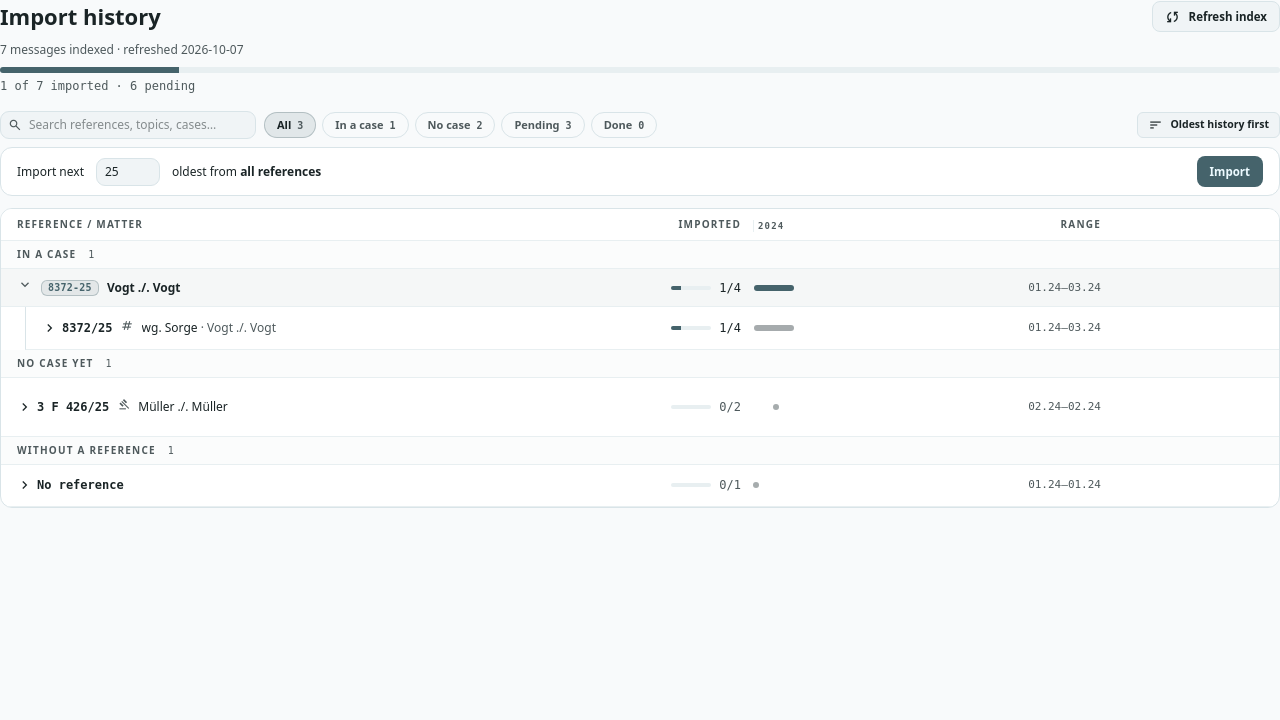
Test: import: select-all picks only the not-yet-imported rows and goes indeterminate
Click the button named "Expand 8372/25": point(77, 328) [42,319,113,337]
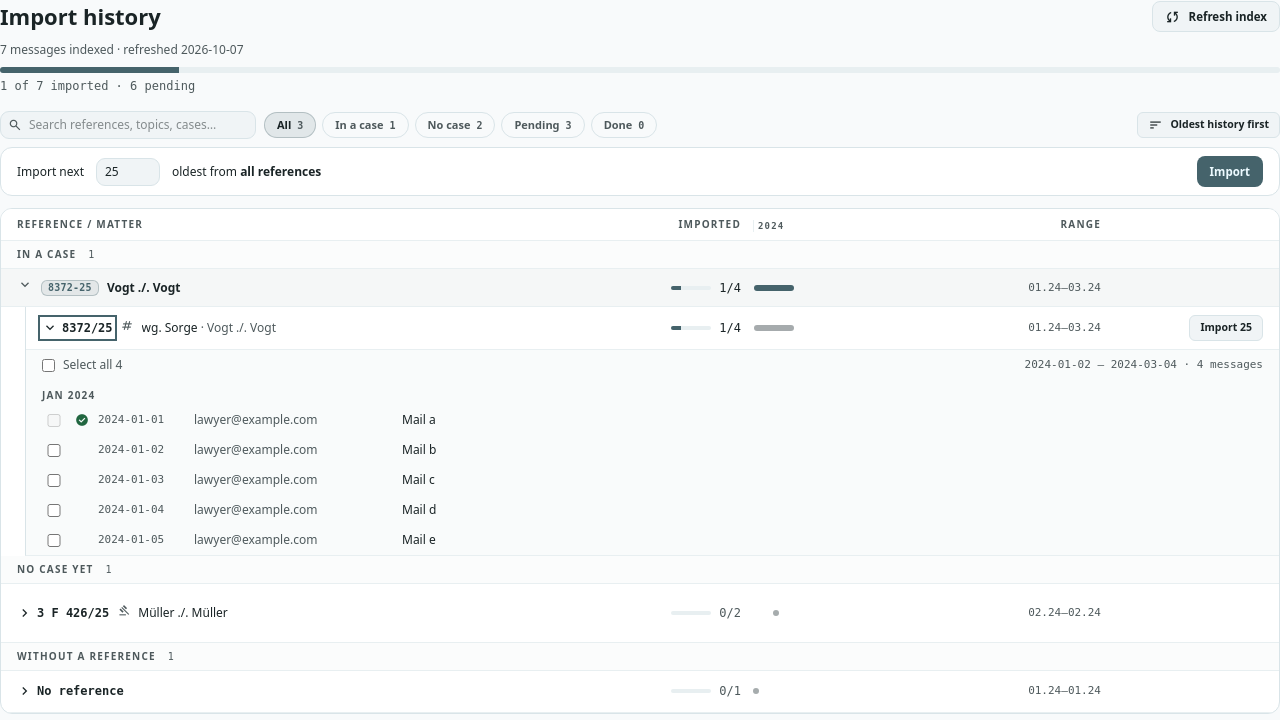
Click the checkbox labelled "Select all 4": point(48, 365) [42,358,55,372]
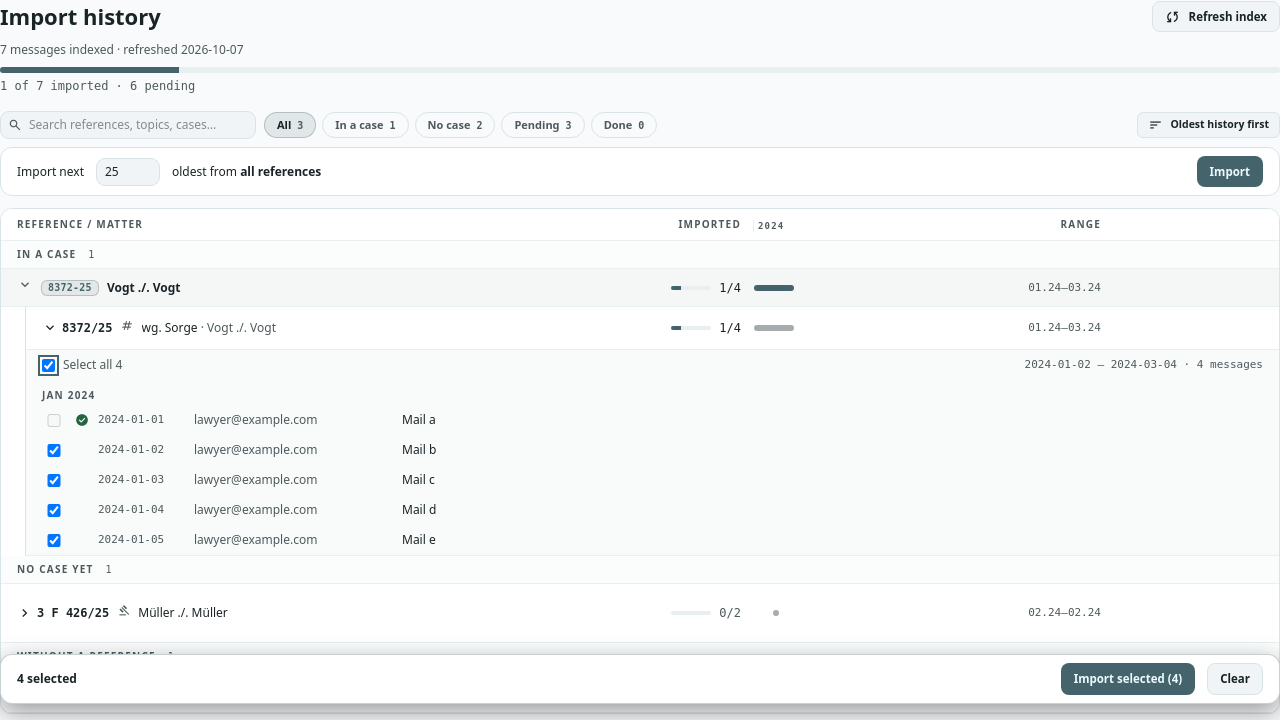
Result: the checkbox labelled "Select all 4" is checked at [42,358,55,372]
Result: the checkbox named "Select Mail a" is not checked at [42,414,66,426]
Result: the button "Import selected (4)" is shown at [1061,664,1195,695]
Click the checkbox named "Select Mail c": point(54, 480) [42,474,66,486]
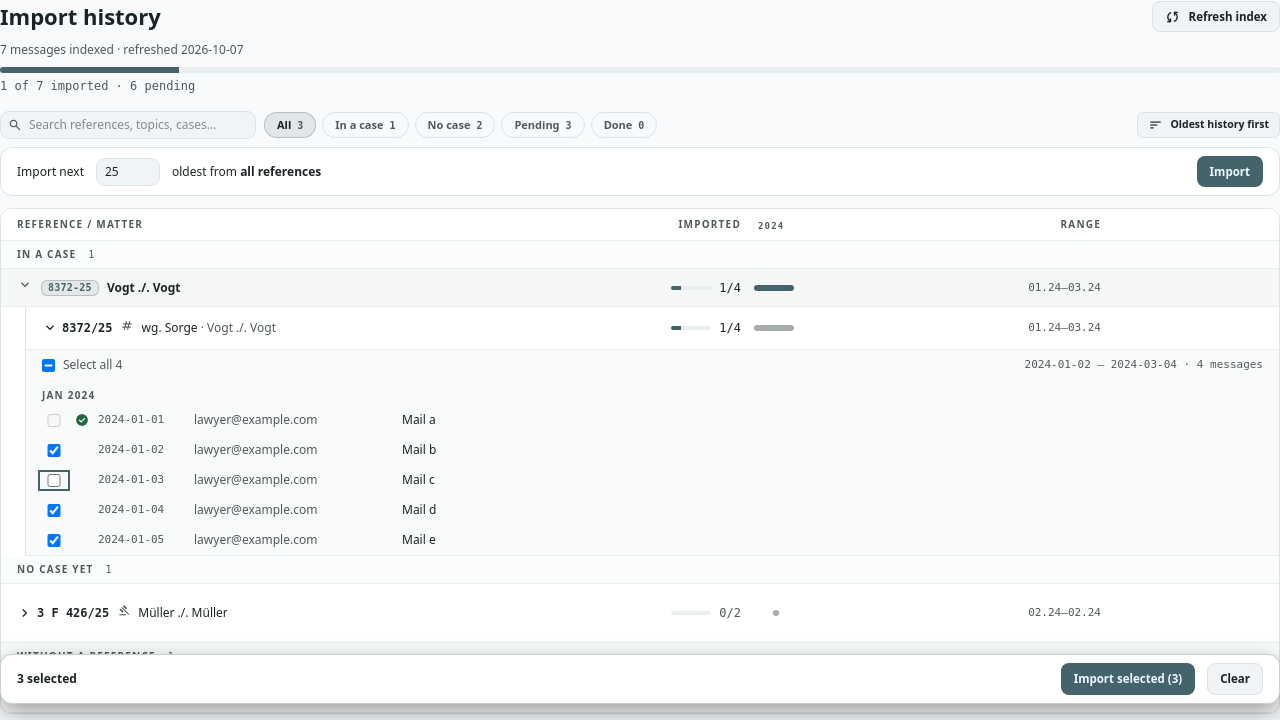
Result: the checkbox labelled "Select all 4" is not checked
Result: the button "Import selected (3)" is shown at [1061,664,1195,695]
Click the checkbox labelled "Select all 4": point(48, 365) [42,358,55,372]
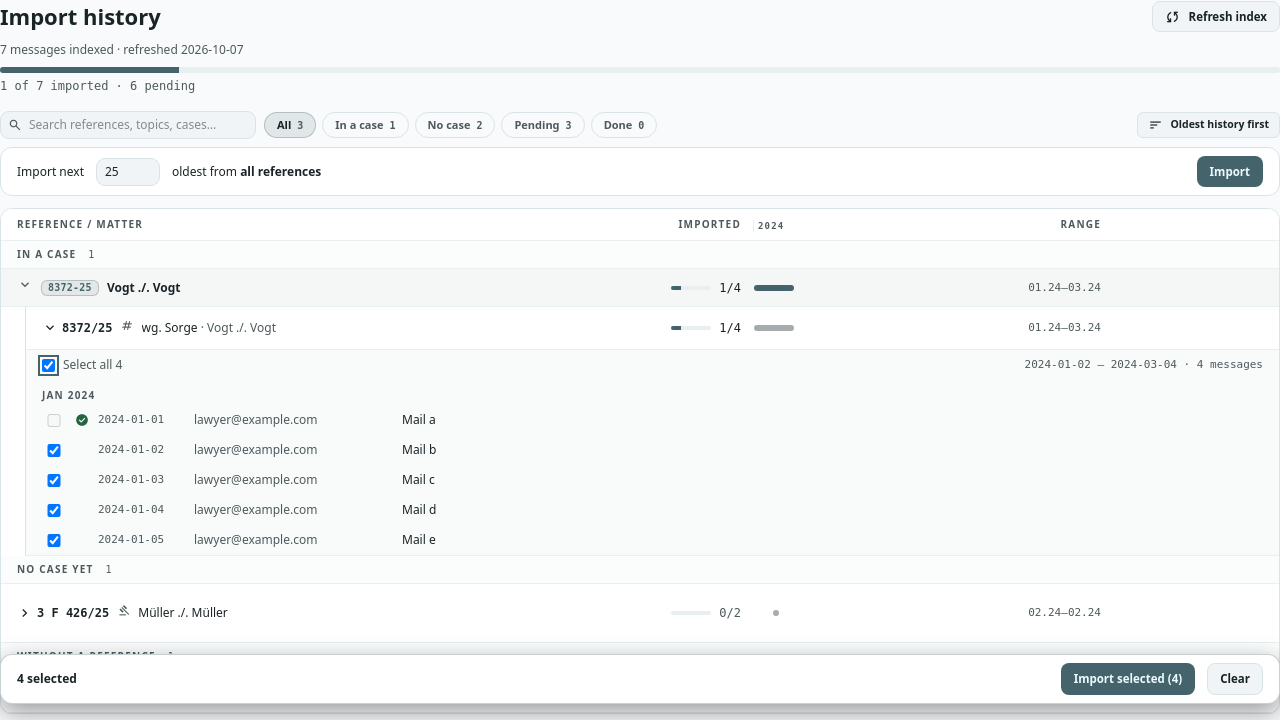
Result: the button "Import selected (4)" is shown at [1061,664,1195,695]
Click the checkbox labelled "Select all 4": point(48, 365) [42,358,55,372]
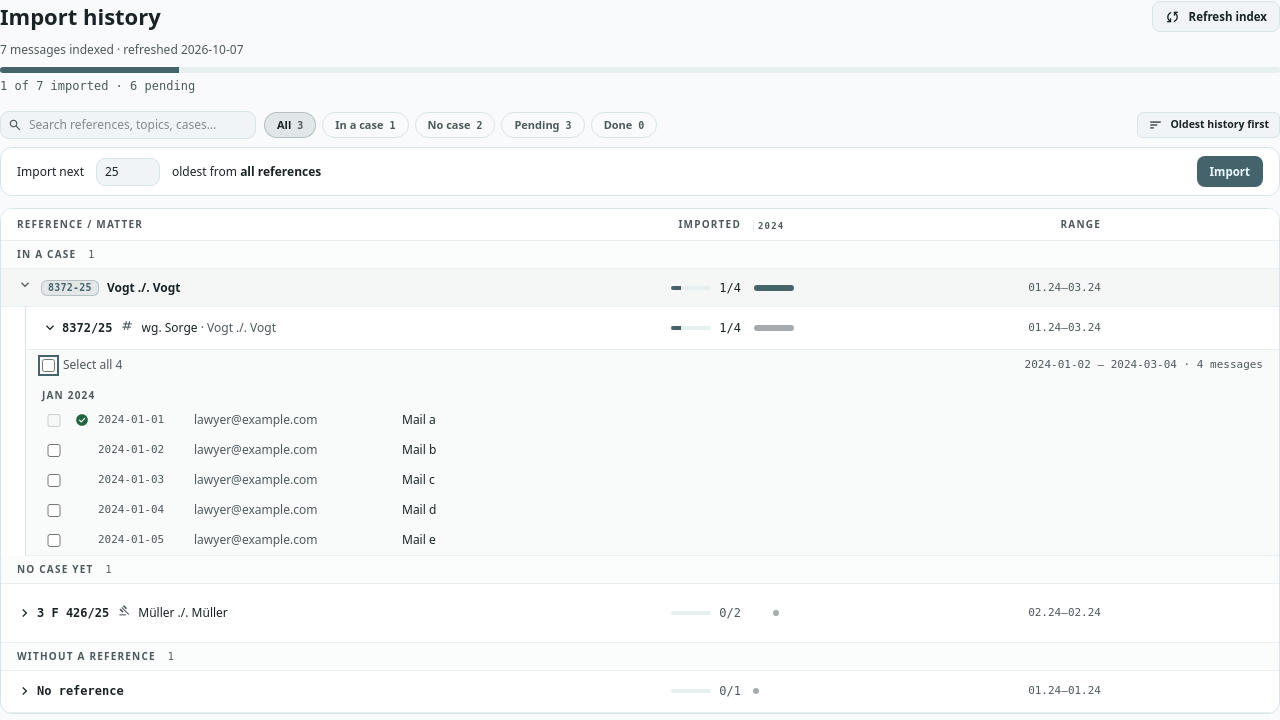
Result: the button "Import selected" is gone
